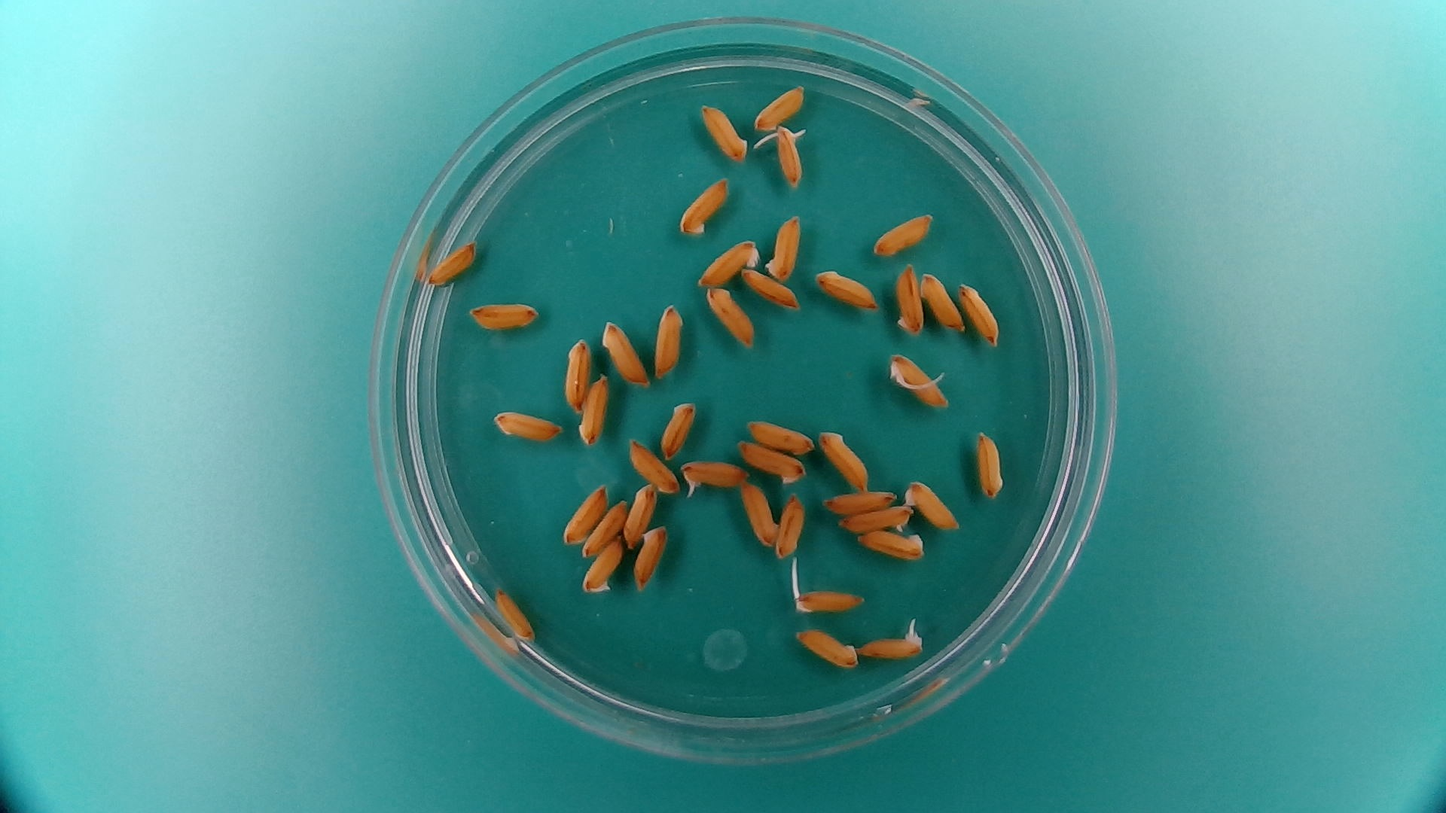no: (599, 316, 650, 388), (693, 236, 761, 288), (815, 427, 871, 490), (702, 284, 755, 350), (676, 175, 731, 237), (624, 435, 680, 495), (736, 437, 806, 485), (698, 101, 751, 164), (903, 475, 963, 530), (560, 480, 609, 547), (812, 266, 880, 313), (956, 278, 1002, 347), (792, 625, 861, 670), (870, 211, 935, 258), (580, 496, 629, 558), (917, 269, 963, 333), (737, 478, 779, 548), (751, 81, 807, 132), (740, 266, 802, 312), (764, 211, 803, 284), (578, 534, 624, 595), (490, 406, 565, 443), (631, 520, 670, 590), (651, 300, 685, 380), (743, 416, 816, 453), (426, 237, 479, 287), (466, 298, 541, 333), (575, 373, 609, 449), (492, 584, 536, 642), (561, 334, 593, 413), (974, 426, 1007, 501), (892, 261, 924, 338), (856, 526, 926, 561), (621, 480, 656, 549), (837, 503, 914, 534), (773, 489, 807, 559), (660, 396, 695, 463), (821, 486, 899, 516)
yes: (884, 352, 950, 413), (677, 455, 750, 495), (856, 620, 927, 661), (787, 583, 868, 615), (771, 123, 808, 187)
